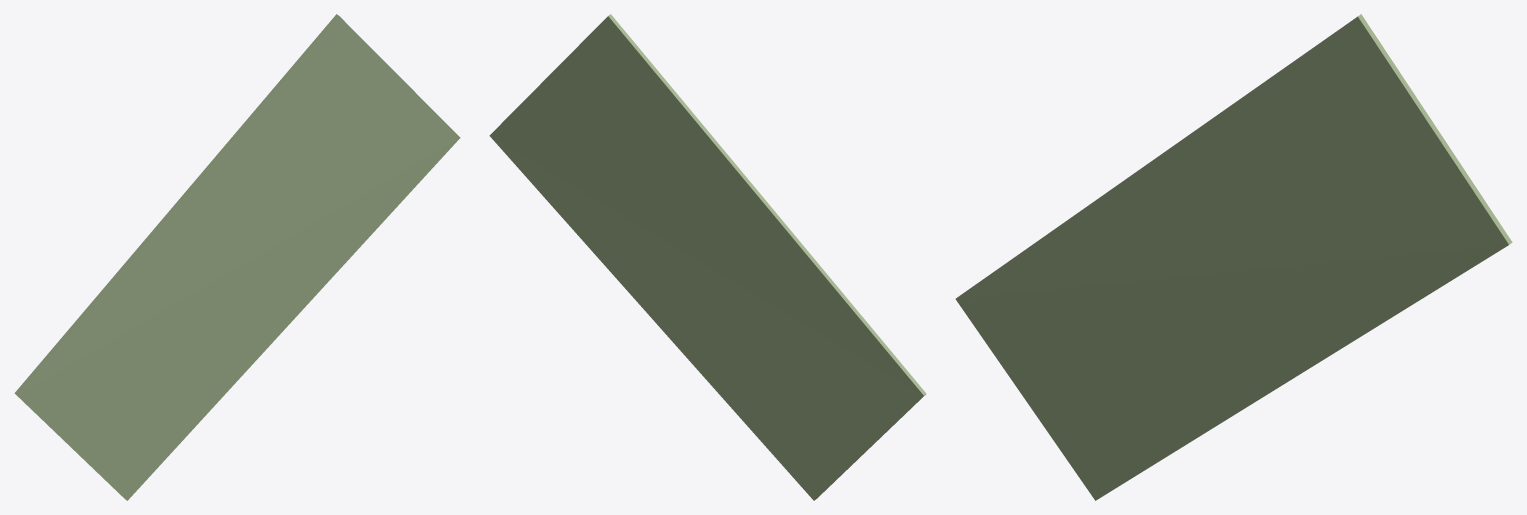
3 renders of one model, left to right at view 1: azimuth 30°, elevation 25°; view 2: azimuth 150°, elevation 25°; view 3: azimuth 330°, elevation 25°, orthographic. The views are drawn at different scales.
Visible parts, largest first — view 1: urn:npust:smart-agriculture-management-platform:face:greenho; view 2: urn:npust:smart-agriculture-management-platform:face:greenho; view 3: urn:npust:smart-agriculture-management-platform:face:greenho.
Part boxes in pixels (x1,y1,x2,y2): urn:npust:smart-agriculture-management-platform:face:greenho: (14, 14, 460, 500); urn:npust:smart-agriculture-management-platform:face:greenho: (489, 14, 926, 500); urn:npust:smart-agriculture-management-platform:face:greenho: (955, 14, 1512, 500).
Bounding box in the file's own units: 23.28 × 22 × 0.535.
